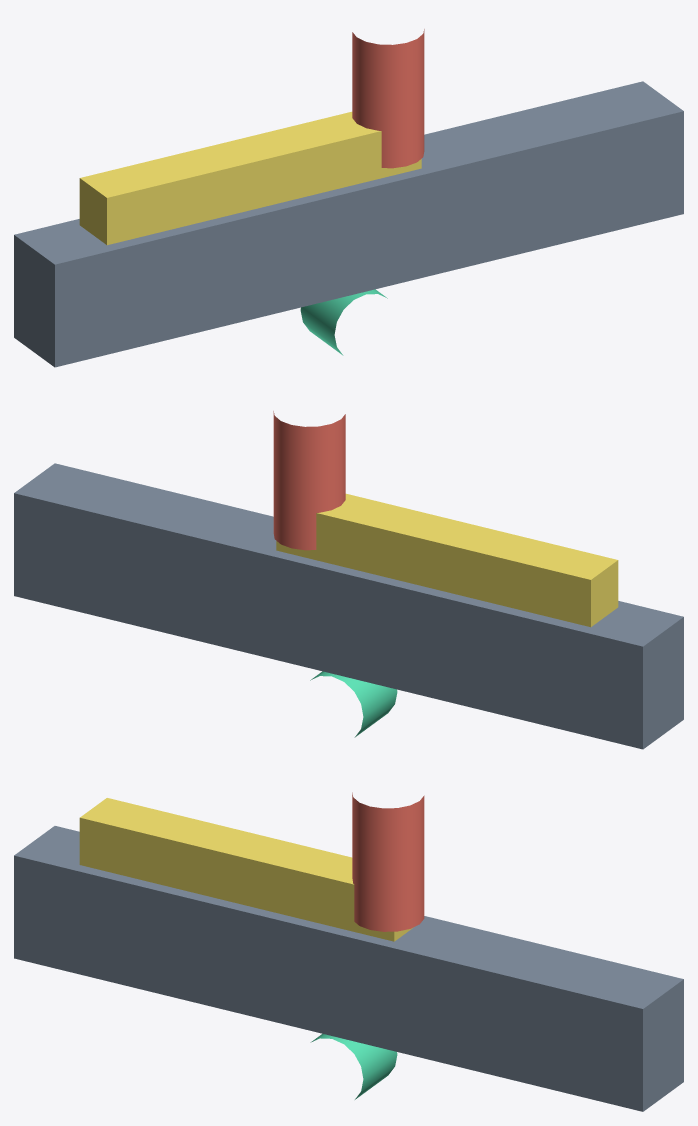
Rendered from shear_force_bending_moment_diagrams.glb.
The picture shows the model from 3 angles, top to bottom: view 1: azimuth 30°, elevation 25°; view 2: azimuth 150°, elevation 25°; view 3: azimuth 330°, elevation 25°; orthographic projection.
Visible parts, largest first — view 1: SimplySupportedSteelIBeam, UDLSimulationUniformWeights, PointLoadHydraulicJack, DialGaugeDeflectionIndicator; view 2: SimplySupportedSteelIBeam, UDLSimulationUniformWeights, PointLoadHydraulicJack, DialGaugeDeflectionIndicator; view 3: SimplySupportedSteelIBeam, UDLSimulationUniformWeights, PointLoadHydraulicJack, DialGaugeDeflectionIndicator.
Part boxes in pixels (x1,y1,x2,y2): SimplySupportedSteelIBeam: (14,81,683,367); UDLSimulationUniformWeights: (79,111,421,245); PointLoadHydraulicJack: (352,29,424,168); DialGaugeDeflectionIndicator: (300,289,387,355); SimplySupportedSteelIBeam: (14,463,683,749); UDLSimulationUniformWeights: (276,493,618,627); PointLoadHydraulicJack: (273,411,345,550); DialGaugeDeflectionIndicator: (310,671,397,737); SimplySupportedSteelIBeam: (14,826,683,1111); UDLSimulationUniformWeights: (79,798,413,941); PointLoadHydraulicJack: (352,792,424,931); DialGaugeDeflectionIndicator: (310,1033,397,1099).
Size of the model in its own units: 1.6 by 0.75 by 0.18.
